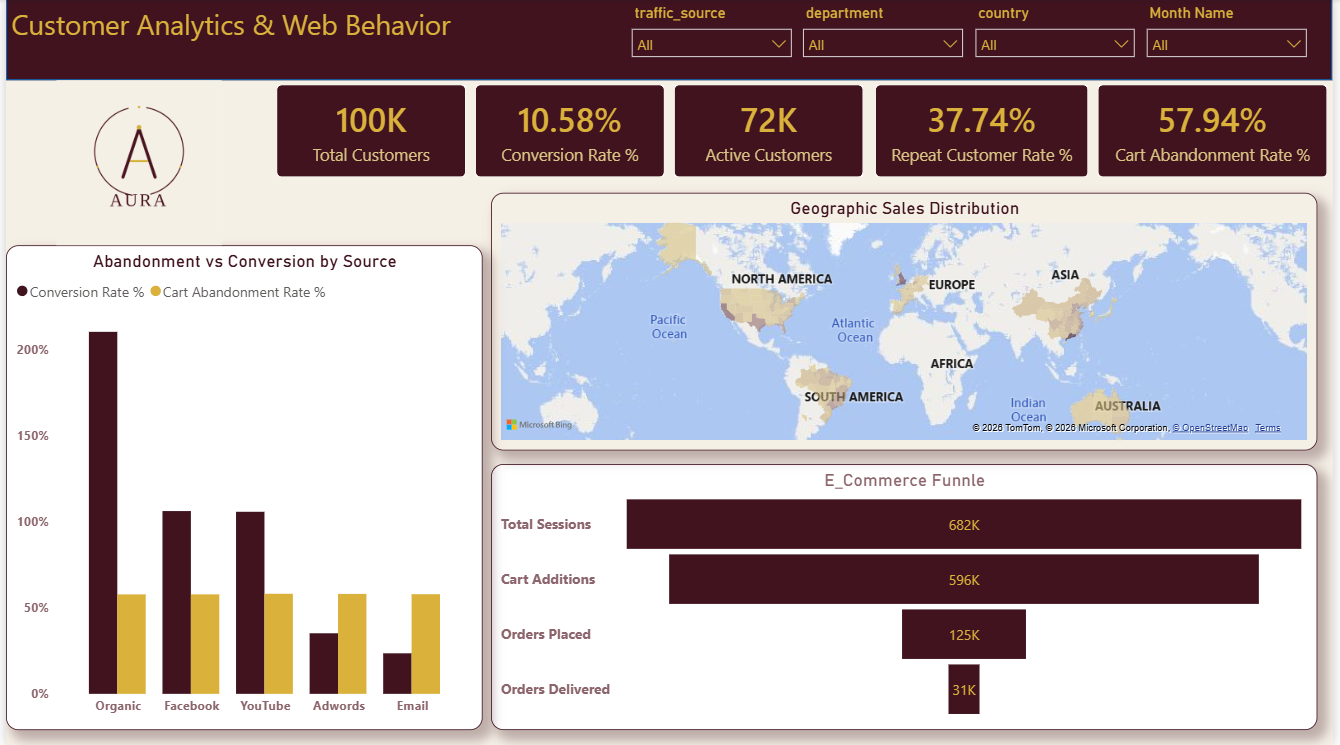

This screenshot's page, from the dashboard's own definition file:
{"tool":"powerbi","page":{"name":"Customer Analytics & Web Behavior","canvas":[1280,720],"ordinal":1},"visuals":[{"type":"shape","box":[0,0,1280,78.4],"z":0},{"type":"cardVisual","fields":{"Data":["Key_Measures.Repeat Customer Rate %"]},"box":[834.9,78.4,214.7,98.9],"z":1000},{"type":"cardVisual","fields":{"Data":["Key_Measures.Total Customers"]},"box":[257,78.4,191.8,98.9],"z":2000},{"type":"cardVisual","fields":{"Data":["Key_Measures.Conversion Rate %"]},"box":[448.8,78.4,191.8,98.9],"z":3000},{"type":"cardVisual","fields":{"Data":["Key_Measures.Active Customers"]},"box":[640.6,78.4,191.8,98.9],"z":4000},{"type":"cardVisual","fields":{"Data":["Key_Measures.Cart Abandonment Rate %"]},"box":[1049.6,78.4,230.4,98.9],"z":5000},{"type":"funnel","title":"E_Commerce Funnle","fields":{"Y":["Key_Measures.Total Sessions","Key_Measures.Cart Additions","Key_Measures.Orders Placed","Key_Measures.Orders Delivered"]},"box":[468.1,448.8,797.5,257],"z":6000},{"type":"filledMap","title":"Geographic Sales Distribution","fields":{"Category":["Dim_Users.state"]},"box":[468.1,187,797.5,248.5],"z":7000},{"type":"clusteredColumnChart","title":"Abandonment vs Conversion by Source","fields":{"Y":["Key_Measures.Conversion Rate %","Key_Measures.Cart Abandonment Rate %"],"Category":["Fact_Events.traffic_source"]},"box":[0,237.7,459.7,468.1],"z":8000},{"type":"image","box":[0,78.4,257,159.3],"z":9000},{"type":"slicer","fields":{"Values":["Dim_Date.Month Name"]},"box":[1090.6,0,174.9,61.5],"z":10000},{"type":"slicer","fields":{"Values":["Dim_Users.country"]},"box":[925.3,0,173.7,61.5],"z":11000},{"type":"slicer","fields":{"Values":["Dim_Products.department"]},"box":[758.9,0,174.9,68.8],"z":12000},{"type":"slicer","fields":{"Values":["Fact_Events.traffic_source"]},"box":[593.6,0,174.9,77.2],"z":13000},{"type":"textbox","box":[0,1.2,468.1,66.4],"z":14000}]}

Visuals, with their boxes in screenshot pixels (x1, y1, x2, y2), scaled from the page's 1280x720 canvas onto the 1340x745 screenshot:
shape: <box>0,0,1339,81</box>
cardVisual - Key_Measures.Repeat Customer Rate %: <box>874,81,1099,183</box>
cardVisual - Key_Measures.Total Customers: <box>269,81,470,183</box>
cardVisual - Key_Measures.Conversion Rate %: <box>470,81,671,183</box>
cardVisual - Key_Measures.Active Customers: <box>671,81,871,183</box>
cardVisual - Key_Measures.Cart Abandonment Rate %: <box>1099,81,1339,183</box>
"E_Commerce Funnle" funnel: <box>490,464,1325,730</box>
"Geographic Sales Distribution" filledMap: <box>490,193,1325,451</box>
"Abandonment vs Conversion by Source" clusteredColumnChart: <box>0,246,481,730</box>
image: <box>0,81,269,246</box>
slicer - Dim_Date.Month Name: <box>1142,0,1325,64</box>
slicer - Dim_Users.country: <box>969,0,1151,64</box>
slicer - Dim_Products.department: <box>794,0,978,71</box>
slicer - Fact_Events.traffic_source: <box>621,0,805,80</box>
textbox: <box>0,1,490,70</box>
